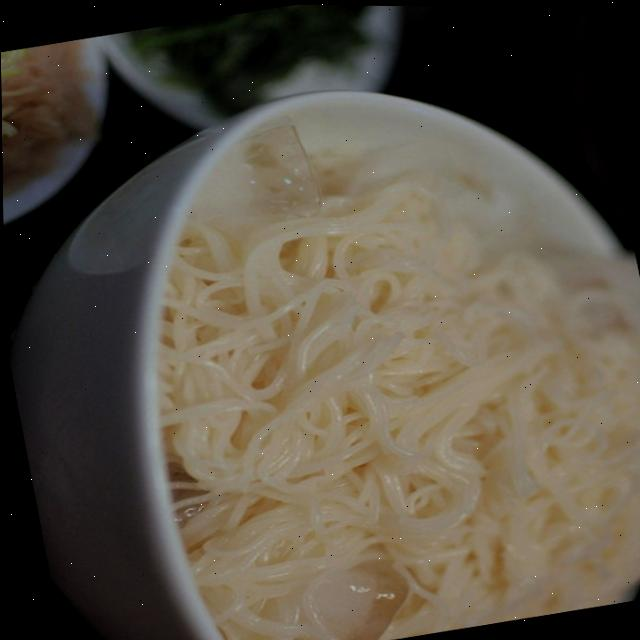面条主食: (0, 37, 640, 640)
